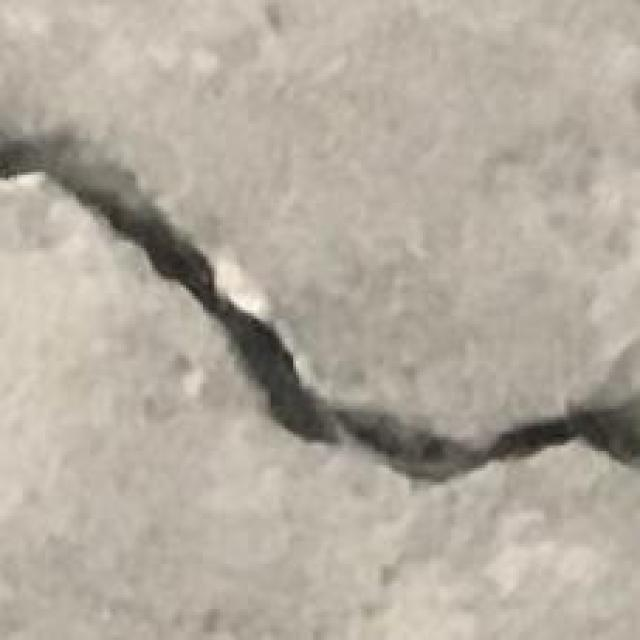diagonal crack: (45, 138, 640, 482)
